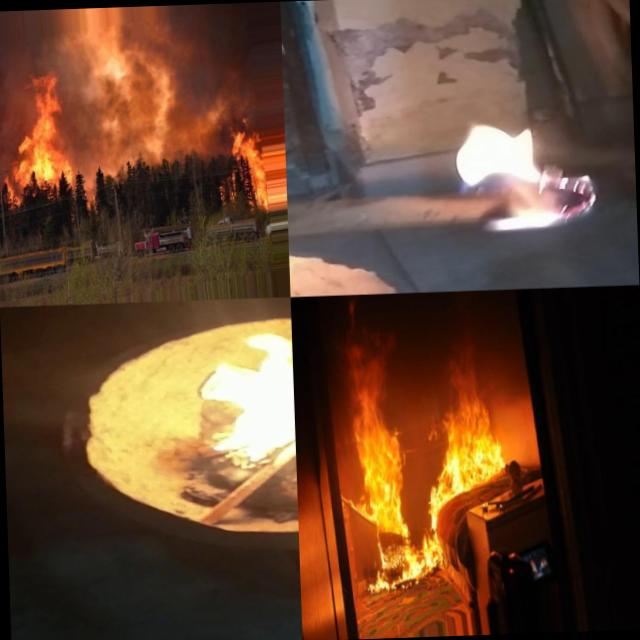fire: (432, 102, 622, 248), (179, 309, 296, 472), (350, 392, 406, 542), (3, 78, 72, 182), (427, 395, 504, 486), (226, 119, 268, 214), (363, 540, 444, 588), (422, 488, 450, 540)
smoke: (55, 3, 226, 161), (0, 10, 33, 135), (343, 318, 396, 394), (443, 338, 481, 398)
